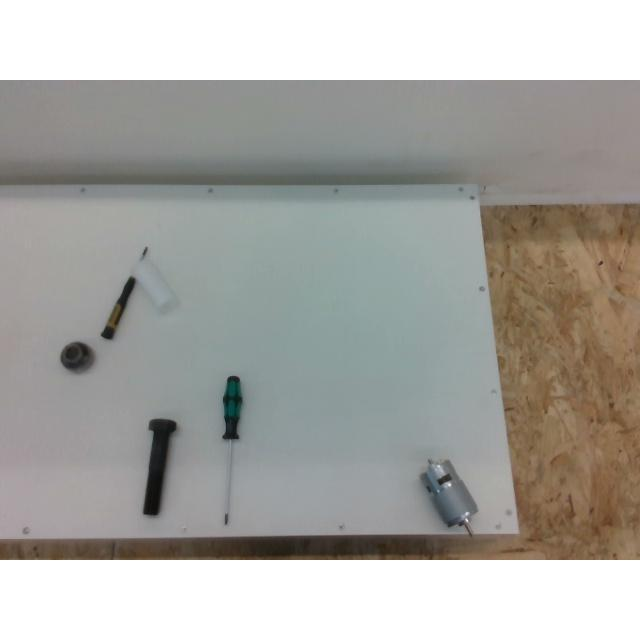Bearing2: (60, 341, 94, 372)
M20_100: (144, 419, 176, 515)
Motor2: (421, 459, 477, 535)
Screwdriver: (222, 376, 242, 524)
Spacer: (132, 255, 180, 313)
